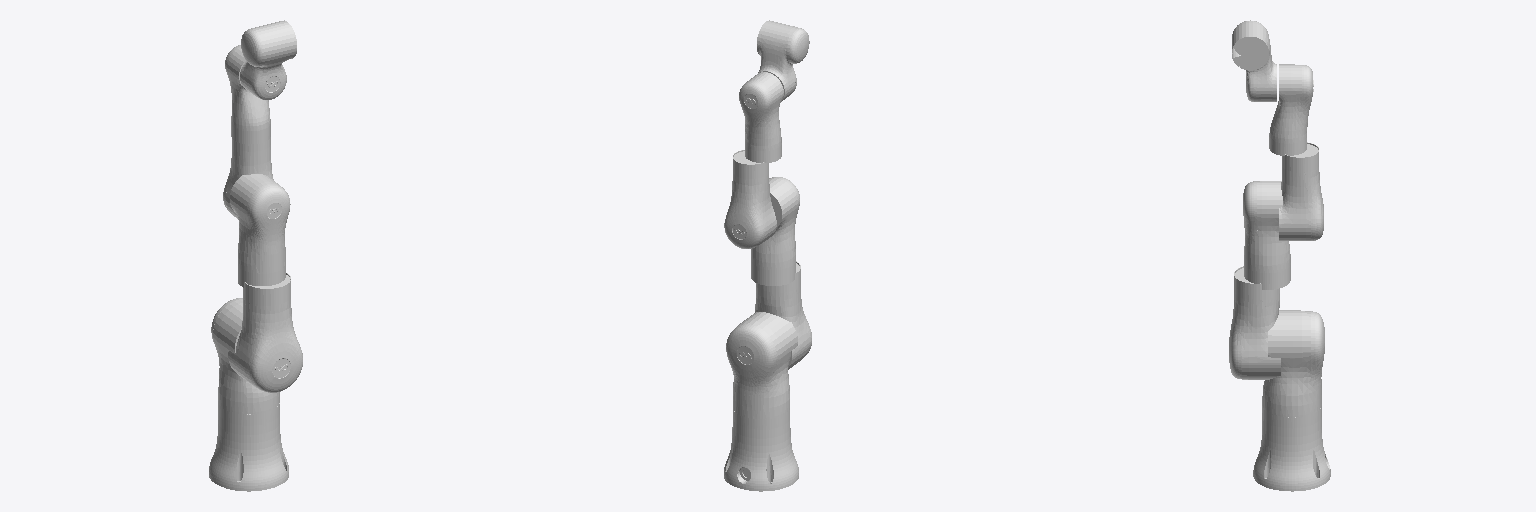
The robot description file, URDF, robot "Rizon4s":
<?xml version="1.0"?>
<!-- ======================================================================== -->
<!-- |          Flexiv Rizon 4s (with blurred dynamic parameters)           | -->
<!-- ======================================================================== -->
<robot name="Rizon4s">
    <joint name="joint1" type="revolute">
        <parent link="base_link" />
        <child link="link1" />
        <origin rpy="0.0 0.0 -3.141592653589793" xyz="0.0 0.0 0.155" />
        <axis xyz="0 0 1" />
        <limit effort="123" lower="-2.8798" upper="2.8798" velocity="2.0944" />
        <safety_controller k_position="100.0" k_velocity="40.0" soft_lower_limit="-2.7925"
            soft_upper_limit="2.7925" />
    </joint>
    <joint name="joint2" type="revolute">
        <parent link="link1" />
        <child link="link2" />
        <origin rpy="0.0 0.0 0.0" xyz="0.0 0.03 0.21" />
        <axis xyz="0 1 0" />
        <limit effort="123" lower="-2.3562" upper="2.3562" velocity="2.0944" />
        <safety_controller k_position="100.0" k_velocity="40.0" soft_lower_limit="-2.2689"
            soft_upper_limit="2.2689" />
    </joint>
    <joint name="joint3" type="revolute">
        <parent link="link2" />
        <child link="link3" />
        <origin rpy="0.0 0.0 0.0" xyz="0.0 0.035 0.205" />
        <axis xyz="0 0 1" />
        <limit effort="64" lower="-3.0543" upper="3.0543" velocity="2.4435" />
        <safety_controller k_position="100.0" k_velocity="40.0" soft_lower_limit="-2.9671"
            soft_upper_limit="2.9671" />
    </joint>
    <joint name="joint4" type="revolute">
        <parent link="link3" />
        <child link="link4" />
        <origin rpy="0.0 0.0 -3.141592653589793" xyz="-0.02 -0.03 0.19" />
        <axis xyz="0 1 0" />
        <limit effort="64" lower="-1.9548" upper="2.7751" velocity="2.4435" />
        <safety_controller k_position="100.0" k_velocity="40.0" soft_lower_limit="-1.8675"
            soft_upper_limit="2.6878" />
    </joint>
    <joint name="joint5" type="revolute">
        <parent link="link4" />
        <child link="link5" />
        <origin rpy="0.0 0.0 -3.141592653589793" xyz="-0.02 0.025 0.195" />
        <axis xyz="0 0 1" />
        <limit effort="39" lower="-3.0543" upper="3.0543" velocity="4.8869" />
        <safety_controller k_position="100.0" k_velocity="40.0" soft_lower_limit="-2.9671"
            soft_upper_limit="2.9671" />
    </joint>
    <joint name="joint6" type="revolute">
        <parent link="link5" />
        <child link="link6" />
        <origin rpy="0.0 0.0 0.0" xyz="0.0 0.03 0.19" />
        <axis xyz="0 1 0" />
        <limit effort="39" lower="-1.4835" upper="4.6251" velocity="4.8869" />
        <safety_controller k_position="100.0" k_velocity="40.0" soft_lower_limit="-1.3963"
            soft_upper_limit="4.5379" />
    </joint>
    <joint name="joint7" type="revolute">
        <parent link="link6" />
        <child link="link7" />
        <origin rpy="0.0 -1.5707963478683205 0.0" xyz="-0.015 0.073 0.11" />
        <axis xyz="0 0 1" />
        <limit effort="39" lower="-3.0543" upper="3.0543" velocity="4.8869" />
        <safety_controller k_position="100.0" k_velocity="40.0" soft_lower_limit="-2.9671"
            soft_upper_limit="2.9671" />
    </joint>
    <joint name="link7_to_flange" type="fixed">
        <parent link="link7" />
        <child link="flange" />
        <origin rpy="0.0 0.0 -3.141592653589793" xyz="0.0 0.0 0.124" />
    </joint>

    <link name="base_link">
        <inertial>
            <mass value="3.8" />
            <origin rpy="0 0 0" xyz="0.0 -0.0 0.09" />
            <inertia ixx="0.02" ixy="0.0" ixz="0.0" iyy="0.02" iyz="0.0" izz="0.01" />
        </inertial>
        <visual name="shell">
            <origin rpy="0 0 0" xyz="0 0 0" />
            <geometry>
                <mesh filename="package://meshes/Rizon4s/visual/link0.obj" />
            </geometry>
            <material name="rizon_light_grey" />
        </visual>
        <collision name="convex_mesh">
            <origin rpy="0 0 0" xyz="0 0 0" />
            <geometry>
                <mesh filename="package://meshes/Rizon4s/collision/link0.stl" />
            </geometry>
        </collision>
        <workspace>
            <origin rpy="0 0 0" xyz="0 0 0.365" />
            <geometry>
                <sphere radius="0.890" />
            </geometry>
        </workspace>
    </link>
    <link name="link1">
        <inertial>
            <mass value="3.6" />
            <origin rpy="0 0 0" xyz="0.0 0.0 0.15" />
            <inertia ixx="0.03" ixy="0.0" ixz="0.0" iyy="0.03" iyz="0.0" izz="0.01" />
        </inertial>
        <visual name="shell">
            <origin rpy="0 0 0" xyz="0 0 0" />
            <geometry>
                <mesh filename="package://meshes/Rizon4s/visual/link1.obj" />
            </geometry>
            <material name="rizon_light_grey" />
        </visual>
        <visual name="ring">
            <origin rpy="0 0 0" xyz="0 0 -0.0025" />
            <geometry>
                <mesh filename="package://meshes/Rizon4s/visual/ring.obj" scale="0.062 0.062 0.002" />
            </geometry>
            <material name="rizon_white" />
        </visual>
        <collision name="convex_mesh">
            <origin rpy="0 0 0" xyz="0 0 0" />
            <geometry>
                <mesh filename="package://meshes/Rizon4s/collision/link1.stl" />
            </geometry>
        </collision>
    </link>
    <link name="link2">
        <inertial>
            <mass value="2.7" />
            <origin rpy="0 0 0" xyz="-0.0 0.04 0.1" />
            <inertia ixx="0.02" ixy="0.0" ixz="0.0" iyy="0.02" iyz="-0.0" izz="0.0" />
        </inertial>
        <visual name="shell">
            <origin rpy="0 0 0" xyz="0 0 0" />
            <geometry>
                <mesh filename="package://meshes/Rizon4s/visual/link2.obj" />
            </geometry>
            <material name="rizon_light_grey" />
        </visual>
        <visual name="ring">
            <origin rpy="1.5707963 0 0" xyz="0 -0.0025 0" />
            <geometry>
                <mesh filename="package://meshes/Rizon4s/visual/ring.obj" scale="0.062 0.062 0.002" />
            </geometry>
            <material name="rizon_white" />
        </visual>
        <collision name="convex_mesh">
            <origin rpy="0 0 0" xyz="0 0 0" />
            <geometry>
                <mesh filename="package://meshes/Rizon4s/collision/link2.stl" />
            </geometry>
        </collision>
    </link>
    <link name="link3">
        <inertial>
            <mass value="2.4" />
            <origin rpy="0 0 0" xyz="-0.01 -0.0 0.14" />
            <inertia ixx="0.01" ixy="0.0" ixz="-0.0" iyy="0.01" iyz="-0.0" izz="0.0" />
        </inertial>
        <visual name="shell">
            <origin rpy="0 0 0" xyz="0 0 0" />
            <geometry>
                <mesh filename="package://meshes/Rizon4s/visual/link3.obj" />
            </geometry>
            <material name="rizon_light_grey" />
        </visual>
        <visual name="ring">
            <origin rpy="0 0 0" xyz="0 0 -0.0025" />
            <geometry>
                <mesh filename="package://meshes/Rizon4s/visual/ring.obj" scale="0.051 0.051 0.002" />
            </geometry>
            <material name="rizon_white" />
        </visual>
        <collision name="convex_mesh">
            <origin rpy="0 0 0" xyz="0 0 0" />
            <geometry>
                <mesh filename="package://meshes/Rizon4s/collision/link3.stl" />
            </geometry>
        </collision>
    </link>
    <link name="link4">
        <inertial>
            <mass value="2.4" />
            <origin rpy="0 0 0" xyz="-0.01 0.03 0.1" />
            <inertia ixx="0.02" ixy="0.0" ixz="-0.0" iyy="0.02" iyz="-0.0" izz="0.0" />
        </inertial>
        <visual name="shell">
            <origin rpy="0 0 0" xyz="0 0 0" />
            <geometry>
                <mesh filename="package://meshes/Rizon4s/visual/link4.obj" />
            </geometry>
            <material name="rizon_light_grey" />
        </visual>
        <visual name="ring">
            <origin rpy="1.5707963 0 0" xyz="0 -0.0025 0" />
            <geometry>
                <mesh filename="package://meshes/Rizon4s/visual/ring.obj" scale="0.051 0.051 0.002" />
            </geometry>
            <material name="rizon_white" />
        </visual>
        <collision name="convex_mesh">
            <origin rpy="0 0 0" xyz="0 0 0" />
            <geometry>
                <mesh filename="package://meshes/Rizon4s/collision/link4.stl" />
            </geometry>
        </collision>
    </link>
    <link name="link5">
        <inertial>
            <mass value="2.3" />
            <origin rpy="0 0 0" xyz="0.0 0.0 0.14" />
            <inertia ixx="0.01" ixy="0.0" ixz="0.0" iyy="0.01" iyz="0.0" izz="0.0" />
        </inertial>
        <visual name="shell">
            <origin rpy="0 0 0" xyz="0 0 0" />
            <geometry>
                <mesh filename="package://meshes/Rizon4s/visual/link5.obj" />
            </geometry>
            <material name="rizon_light_grey" />
        </visual>
        <visual name="ring">
            <origin rpy="0 0 0" xyz="0 0 -0.0025" />
            <geometry>
                <mesh filename="package://meshes/Rizon4s/visual/ring.obj" scale="0.051 0.051 0.002" />
            </geometry>
            <material name="rizon_white" />
        </visual>
        <collision name="convex_mesh">
            <origin rpy="0 0 0" xyz="0 0 0" />
            <geometry>
                <mesh filename="package://meshes/Rizon4s/collision/link5.stl" />
            </geometry>
        </collision>
    </link>
    <link name="link6">
        <inertial>
            <mass value="2.2" />
            <origin rpy="0 0 0" xyz="0.02 0.06 0.07" />
            <inertia ixx="0.01" ixy="0.0" ixz="0.0" iyy="0.01" iyz="0.0" izz="0.0" />
        </inertial>
        <visual name="shell">
            <origin rpy="0 0 0" xyz="0 0 0" />
            <geometry>
                <mesh filename="package://meshes/Rizon4s/visual/link6.obj" />
            </geometry>
            <material name="rizon_light_grey" />
        </visual>
        <visual name="ring">
            <origin rpy="1.5707963 0 0" xyz="0 -0.0025 0" />
            <geometry>
                <mesh filename="package://meshes/Rizon4s/visual/ring.obj" scale="0.051 0.051 0.002" />
            </geometry>
            <material name="rizon_white" />
        </visual>
        <collision name="convex_mesh">
            <origin rpy="0 0 0" xyz="0 0 0" />
            <geometry>
                <mesh filename="package://meshes/Rizon4s/collision/link6.stl" />
            </geometry>
        </collision>
    </link>
    <link name="link7">
        <inertial>
            <mass value="1.4" />
            <origin rpy="0 0 0" xyz="0.0 0.0 0.05" />
            <inertia ixx="0.0" ixy="0.0" ixz="0.0" iyy="0.0" iyz="0.0" izz="0.0" />
        </inertial>
        <visual name="shell">
            <origin rpy="0 0 0" xyz="0 0 0" />
            <geometry>
                <mesh filename="package://meshes/Rizon4s/visual/link7.obj" />
            </geometry>
            <material name="rizon_light_grey" />
        </visual>
        <visual name="ring">
            <origin rpy="0 0 0" xyz="0 0 -0.0025" />
            <geometry>
                <mesh filename="package://meshes/Rizon4s/visual/ring.obj" scale="0.051 0.051 0.002" />
            </geometry>
            <material name="rizon_white" />
        </visual>
        <collision name="convex_mesh">
            <origin rpy="0 0 0" xyz="0 0 0" />
            <geometry>
                <mesh filename="package://meshes/Rizon4s/collision/link7.stl" />
            </geometry>
        </collision>
    </link>
    <link name="flange">
        <inertial>
            <mass value="0.0" />
            <origin rpy="0 0 0" xyz="0.0 0.0 0.0" />
            <inertia ixx="0.0" ixy="0.0" ixz="0.0" iyy="0.0" iyz="0.0" izz="0.0" />
        </inertial>
    </link>
    <material name="rizon_blue">
        <color rgba="0. 0. 1. 0.5" />
    </material>
    <material name="rizon_light_grey">
        <color rgba="0.9 0.9 0.9 1" />
    </material>
    <material name="rizon_dark_grey">
        <color rgba="0.2 0.2 0.2 1" />
    </material>
    <material name="rizon_white">
        <color rgba="1 1 1 1" />
    </material>
</robot>

--- What the picture shows (computed from the rendered views, not written in the file) ---
Views: 3 orthographic renders of the robot side by side, from view 1: azimuth 30°, elevation 25°; view 2: azimuth 150°, elevation 25°; view 3: azimuth 270°, elevation 25°.
Model Rizon4s with 9 links and 8 joints (7 revolute, 1 fixed), rooted at base_link, posed every joint at zero.
Visible links, largest first — view 1: link2, link3, base_link, link1, link6, link5, link4; view 2: link1, base_link, link4, link3, link5, link6, link2; view 3: link1, base_link, link2, link3, link4, link5, link6.
Boxes of the visible links, <box> form: link2: <box>228,273,302,392</box>; link3: <box>230,174,290,287</box>; base_link: <box>209,403,288,491</box>; link1: <box>211,298,279,426</box>; link6: <box>240,20,296,99</box>; link5: <box>225,45,270,143</box>; link4: <box>223,137,273,218</box>; link1: <box>726,312,797,429</box>; base_link: <box>724,410,798,491</box>; link4: <box>724,150,776,248</box>; link3: <box>751,177,799,285</box>; link5: <box>739,72,783,162</box>; link6: <box>757,20,809,101</box>; link2: <box>755,261,811,369</box>; link1: <box>1262,310,1324,428</box>; base_link: <box>1253,406,1330,491</box>; link2: <box>1229,266,1280,379</box>; link3: <box>1243,181,1290,289</box>; link4: <box>1279,142,1323,240</box>; link5: <box>1269,64,1313,155</box>; link6: <box>1232,20,1276,101</box>.
Bounding box of the posed robot: 0.206 × 0.2698 × 1.3 m (x, y, z).
7 mesh visuals loaded from 9 distinct referenced files (7 OBJ); not drawn: 1 (reference not matched to a file when rendering), 7 (file found but could not be loaded).